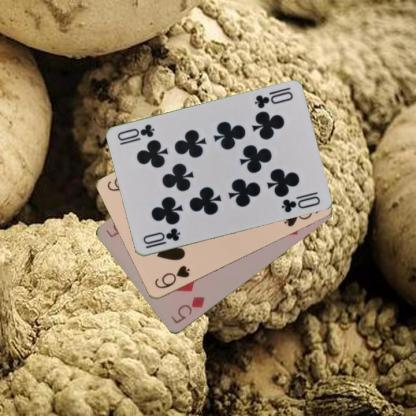10c: (251, 89, 294, 110), (140, 225, 181, 246)
5d: (168, 294, 206, 326)
6s: (152, 263, 191, 291)
